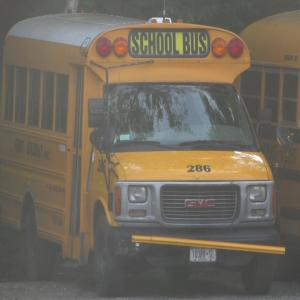Vehicle-registration-plate: (191, 246, 218, 263)
